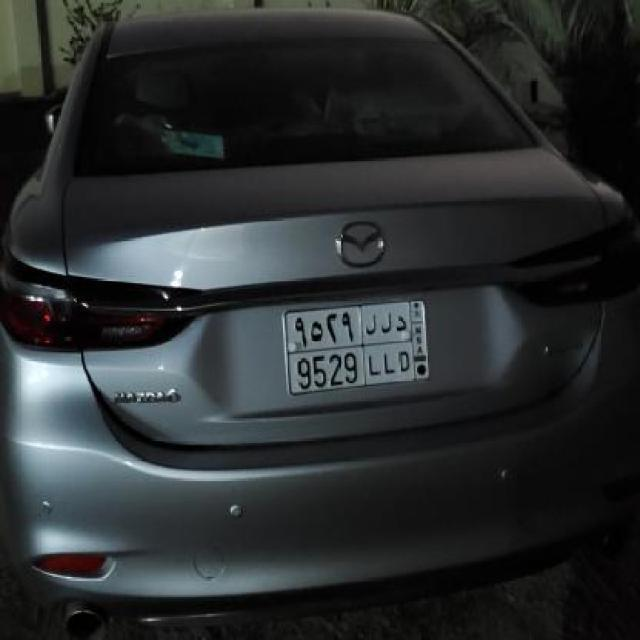license_plate: (280, 296, 432, 398)
